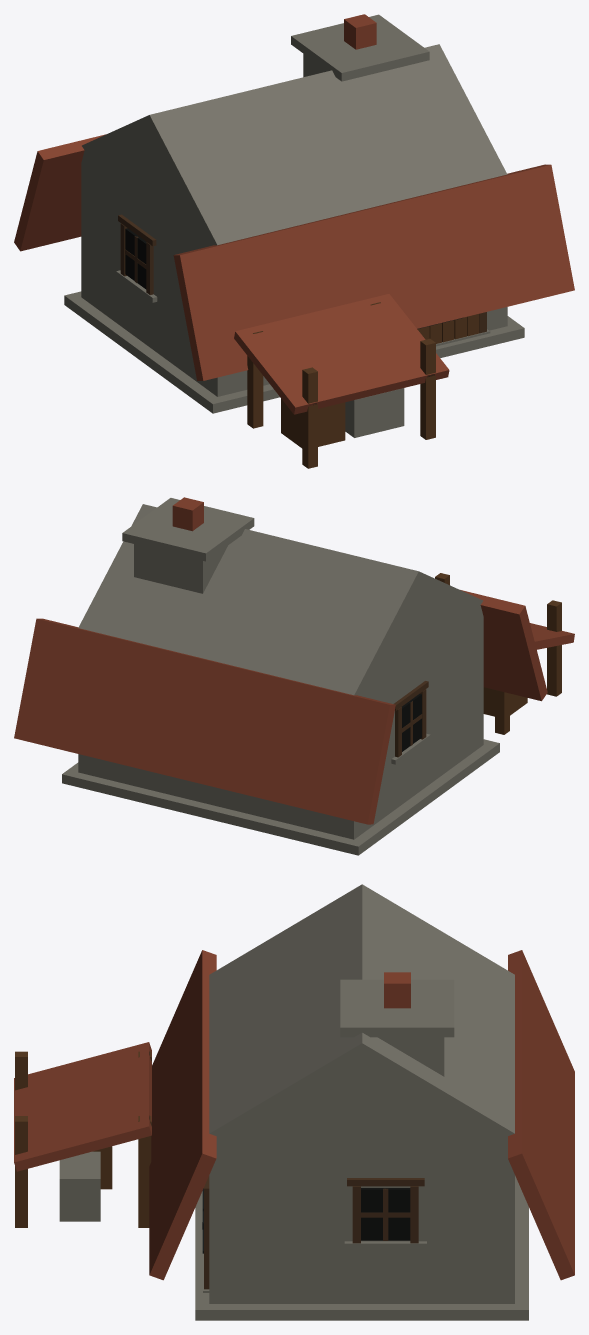
File: house_smithy.obj
3 views of the same model, one above another, from view 1: azimuth 30°, elevation 25°; view 2: azimuth 150°, elevation 25°; view 3: azimuth 270°, elevation 25° (orthographic). The views are drawn at different scales.
Parts seen in each view (by area): view 1: house_smithy walls, house_smithy roof slope, house_smithy shelter roof, house_smithy footing, house_smithy forge chimney cap, house_smithy shelter post, house_smithy quench trough, house_smithy anvil block, house_smithy door plank, house_smithy forge chimney pot, house_smithy end light recess, house_smithy end light jamb; view 2: house_smithy walls, house_smithy roof slope, house_smithy footing, house_smithy forge chimney cap, house_smithy forge chimney stack, house_smithy shelter post, house_smithy forge chimney pot, house_smithy end light recess, house_smithy shelter roof, house_smithy end light jamb, house_smithy anvil block; view 3: house_smithy walls, house_smithy roof slope, house_smithy shelter roof, house_smithy footing, house_smithy forge chimney cap, house_smithy shelter post, house_smithy quench trough, house_smithy end light recess, house_smithy forge chimney stack, house_smithy end light jamb, house_smithy forge chimney pot, house_smithy end light lintel (+3 smaller).
Boxes of the visible parts, x1,y1,x2,y2 form: house_smithy walls: (81, 44, 507, 396); house_smithy roof slope: (14, 134, 574, 380); house_smithy shelter roof: (234, 294, 449, 414); house_smithy footing: (64, 291, 524, 413); house_smithy forge chimney cap: (291, 14, 429, 81); house_smithy shelter post: (247, 302, 435, 468); house_smithy quench trough: (345, 388, 404, 437); house_smithy anvil block: (281, 398, 345, 448); house_smithy door plank: (417, 314, 479, 343); house_smithy forge chimney pot: (344, 14, 376, 49); house_smithy end light recess: (125, 228, 146, 289); house_smithy end light jamb: (120, 223, 153, 294); house_smithy walls: (78, 504, 483, 839); house_smithy roof slope: (14, 590, 547, 824); house_smithy footing: (62, 739, 499, 855); house_smithy forge chimney cap: (122, 498, 254, 561); house_smithy forge chimney stack: (134, 544, 227, 593); house_smithy shelter post: (435, 573, 561, 734); house_smithy forge chimney pot: (172, 497, 203, 531); house_smithy end light recess: (402, 693, 421, 751); house_smithy shelter roof: (530, 623, 574, 649); house_smithy end light jamb: (395, 689, 426, 757); house_smithy anvil block: (483, 687, 527, 716); house_smithy walls: (209, 884, 514, 1303); house_smithy roof slope: (149, 950, 574, 1280); house_smithy shelter roof: (14, 1042, 151, 1171); house_smithy footing: (195, 1175, 528, 1320); house_smithy forge chimney cap: (340, 979, 454, 1037); house_smithy shelter post: (15, 1051, 151, 1227); house_smithy quench trough: (59, 1151, 100, 1221); house_smithy end light recess: (361, 1188, 410, 1240); house_smithy forge chimney stack: (378, 1037, 444, 1076); house_smithy end light jamb: (352, 1186, 418, 1243); house_smithy forge chimney pot: (384, 972, 410, 1008); house_smithy end light lintel: (347, 1178, 424, 1186).
Bounding box in the file's own units: 820 × 567 × 955.
